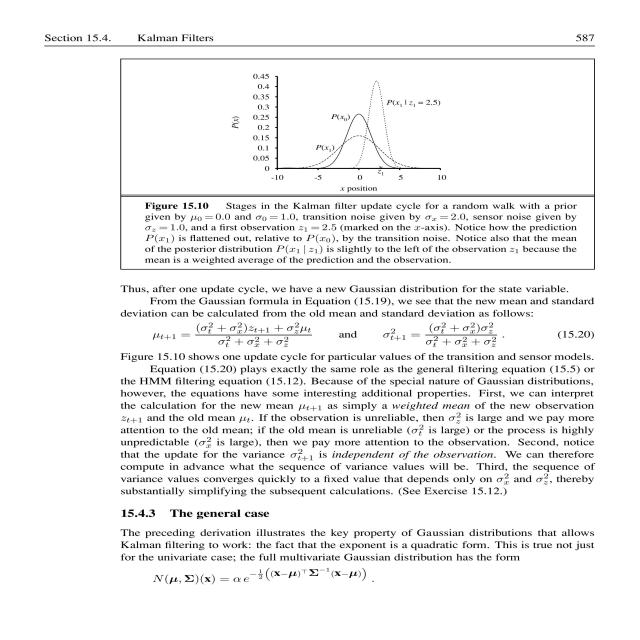diagram: (52, 53, 640, 282)
